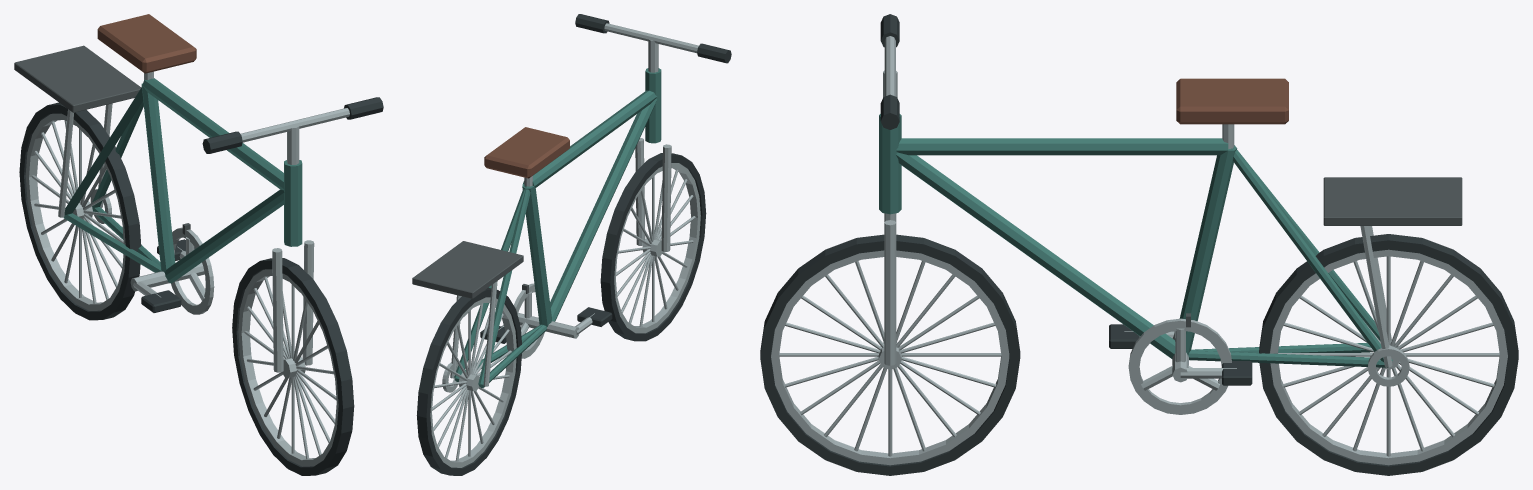
The model's file is bicycle.glb.
3 views of the same model, side by side, from view 1: azimuth 30°, elevation 25°; view 2: azimuth 150°, elevation 25°; view 3: azimuth 270°, elevation 25° (orthographic). The views are drawn at different scales.
Visible parts, largest first — view 1: TransportRoot_mesh, RollingWheel.001_mesh, RollingWheel_mesh, SteeringFork_mesh, Crank_mesh, Pedal_mesh; view 2: TransportRoot_mesh, RollingWheel.001_mesh, RollingWheel_mesh, SteeringFork_mesh, Crank_mesh, Pedal_mesh; view 3: TransportRoot_mesh, RollingWheel.001_mesh, RollingWheel_mesh, Crank_mesh, SteeringFork_mesh.
Part boxes in pixels (box(x1,y1,x2,y2)): TransportRoot_mesh: box(14, 14, 302, 283); RollingWheel.001_mesh: box(232, 258, 354, 475); RollingWheel_mesh: box(19, 102, 141, 320); SteeringFork_mesh: box(202, 97, 383, 372); Crank_mesh: box(130, 227, 214, 314); Pedal_mesh: box(141, 290, 181, 312); TransportRoot_mesh: box(412, 68, 661, 387); RollingWheel.001_mesh: box(600, 153, 706, 341); RollingWheel_mesh: box(416, 287, 521, 475); SteeringFork_mesh: box(575, 14, 731, 251); Crank_mesh: box(498, 283, 594, 358); Pedal_mesh: box(577, 307, 612, 326); TransportRoot_mesh: box(879, 78, 1462, 367); RollingWheel.001_mesh: box(760, 234, 1020, 475); RollingWheel_mesh: box(1259, 234, 1518, 475); Crank_mesh: box(1124, 318, 1236, 414); SteeringFork_mesh: box(880, 14, 899, 365).
Size of the model in its own units: 0.54 by 1.04 by 1.75.
